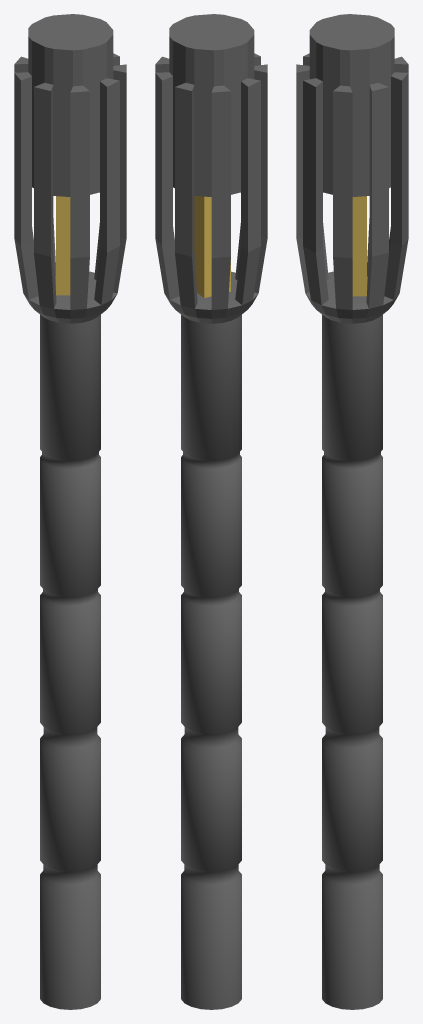
Rendered from antorchaT.FBX.
3 views of the same model, side by side, from view 1: azimuth 90°, elevation 25°; view 2: azimuth 210°, elevation 25°; view 3: azimuth 270°, elevation 25° (orthographic).
Parts seen in each view (by area): view 1: antorcha, Box001; view 2: antorcha, Box001; view 3: antorcha, Box001.
Part boxes in pixels (x1,y1,x2,y2): antorcha: [14, 14, 126, 1009]; Box001: [56, 196, 70, 295]; antorcha: [155, 14, 267, 1009]; Box001: [194, 196, 230, 297]; antorcha: [296, 14, 408, 1009]; Box001: [352, 196, 366, 296].
Bounding box in the file's own units: 20.14 × 188 × 19.83.
